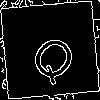Q: (25, 25, 86, 88)
